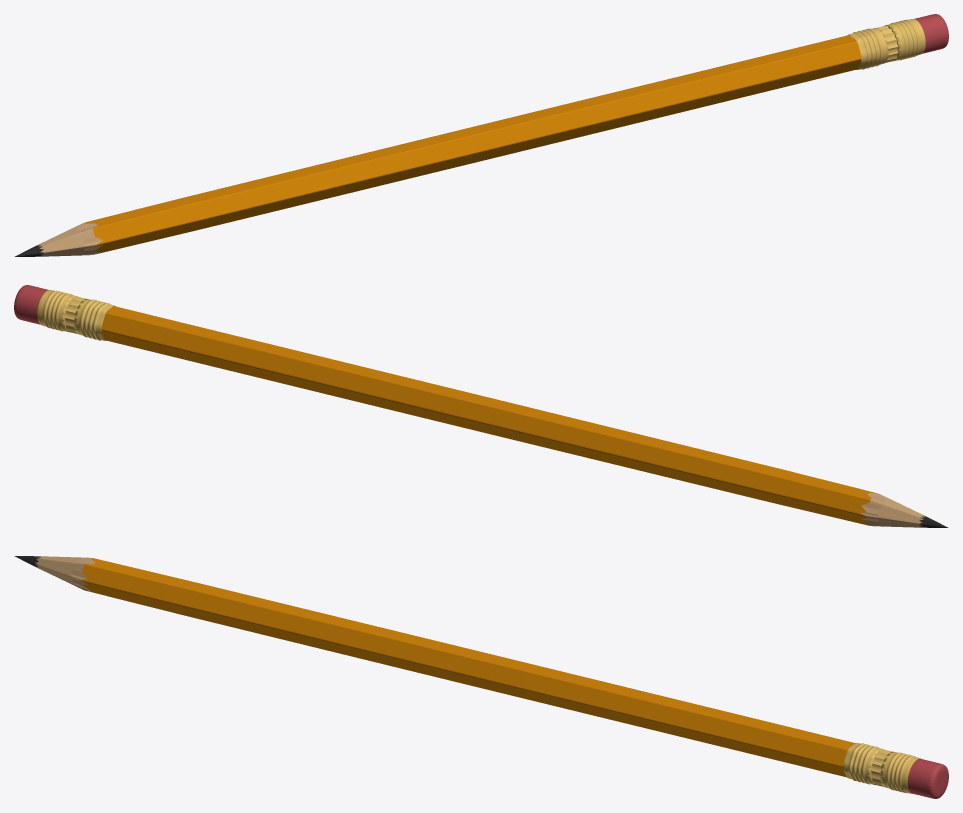
File: pencil.fbx
3 renders of one model, top to bottom at view 1: azimuth 30°, elevation 25°; view 2: azimuth 150°, elevation 25°; view 3: azimuth 330°, elevation 25°, orthographic.
Parts seen in each view (by area): view 1: Cylinder, Cylinder.002, Cylinder.003; view 2: Cylinder, Cylinder.002, Cylinder.003; view 3: Cylinder, Cylinder.002, Cylinder.003.
Part boxes in pixels (x1,y1,x2,y2): Cylinder: (14, 35, 861, 256); Cylinder.002: (847, 19, 925, 69); Cylinder.003: (914, 14, 948, 53); Cylinder: (101, 306, 948, 527); Cylinder.002: (37, 290, 115, 340); Cylinder.003: (14, 285, 48, 324); Cylinder: (14, 556, 855, 777); Cylinder.002: (843, 743, 921, 793); Cylinder.003: (907, 758, 948, 798).
Size of the model in its own units: 882 by 31.58 by 31.84.
